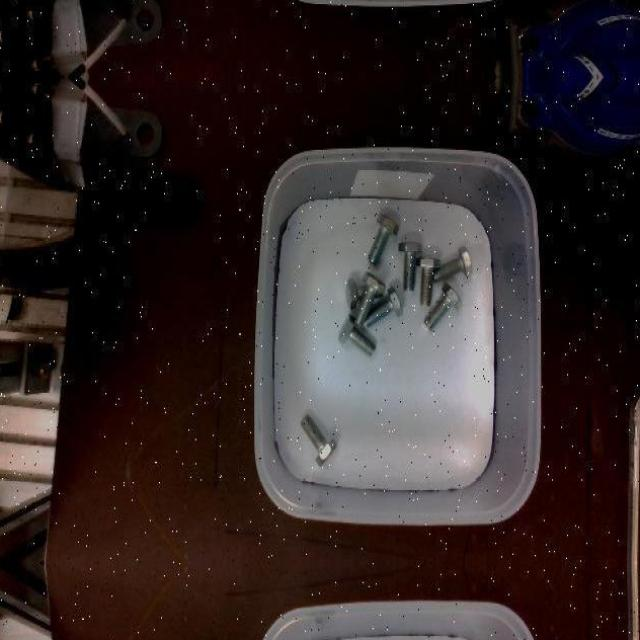screw: (423, 283, 463, 331), (300, 414, 336, 465), (354, 272, 386, 326), (337, 313, 376, 356), (367, 213, 399, 265), (433, 244, 473, 282), (416, 256, 441, 306), (398, 241, 422, 291)
